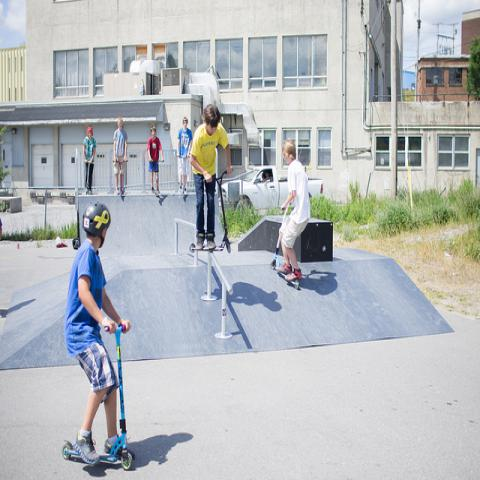truck: (222, 164, 324, 212)
